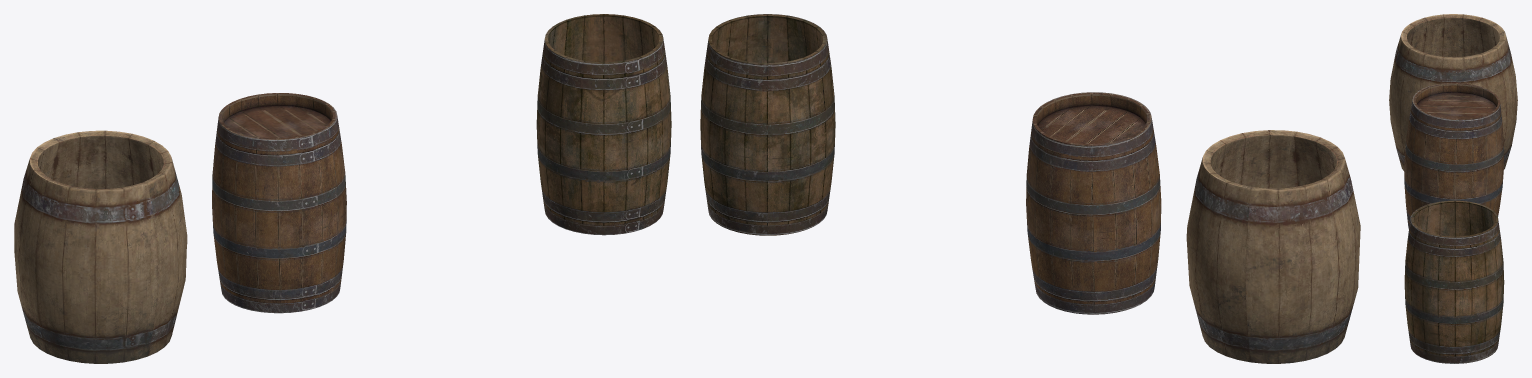
The model's file is barrels.fbx.
3 renders of one model, left to right at view 1: azimuth 30°, elevation 25°; view 2: azimuth 150°, elevation 25°; view 3: azimuth 270°, elevation 25°, orthographic. The views are drawn at different scales.
Parts seen in each view (by area): view 1: barrel_big, mesh0, barrel_small_open; view 2: barrel_big, mesh0, barrel_small_open; view 3: mesh0, barrel_small_open, barrel_big.
Part boxes in pixels (left/top/right/bottom): barrel_big: left=14, top=130, right=187, bottom=363; mesh0: left=536, top=14, right=671, bottom=235; barrel_small_open: left=212, top=93, right=346, bottom=313; barrel_big: left=1186, top=130, right=1360, bottom=363; mesh0: left=700, top=14, right=835, bottom=235; barrel_small_open: left=1026, top=92, right=1161, bottom=314; mesh0: left=1404, top=200, right=1504, bottom=363; barrel_small_open: left=1404, top=83, right=1503, bottom=228; barrel_big: left=1389, top=14, right=1517, bottom=171.
Size of the model in its own units: 137 by 35.89 by 32.55.
1 material, 1 textured.
